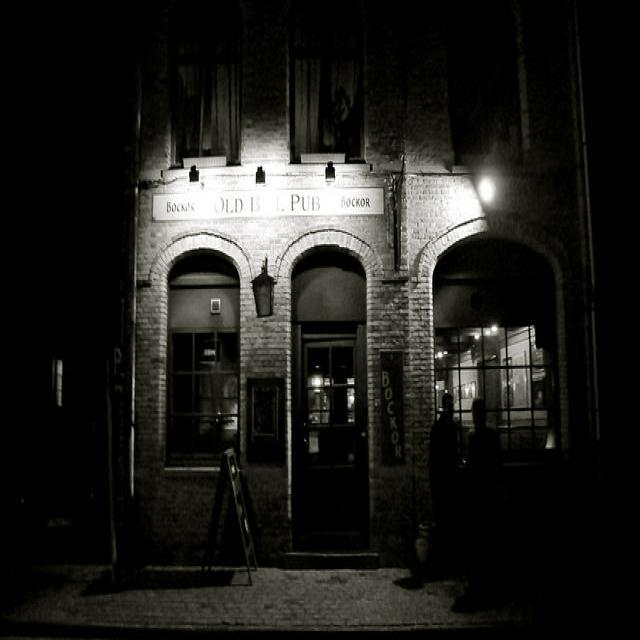People: (464, 392, 510, 552), (431, 390, 462, 531)
